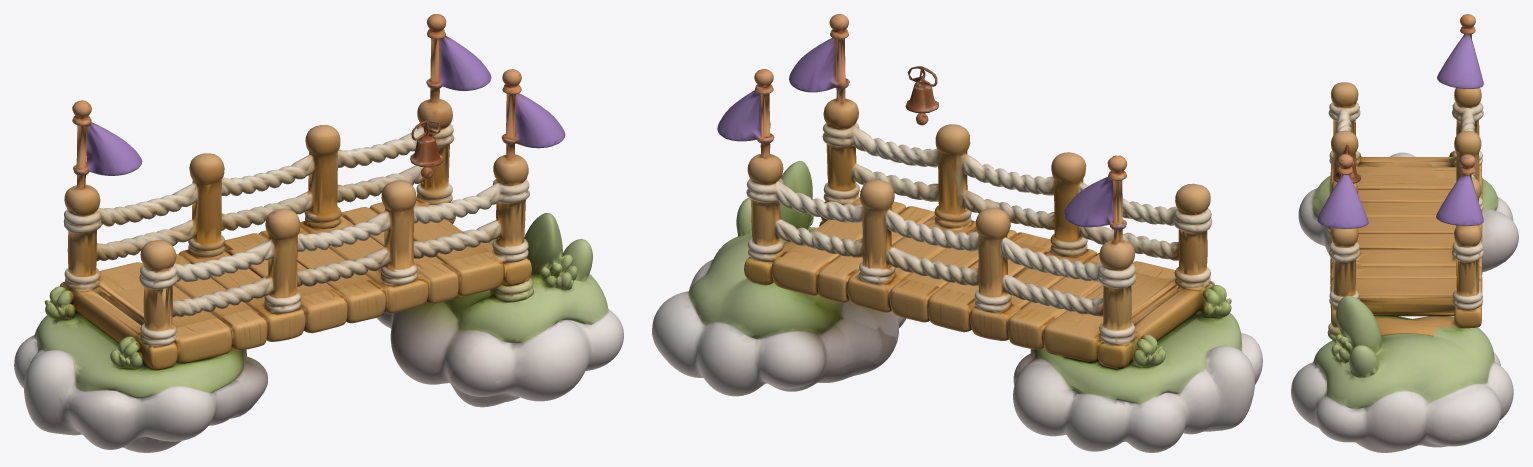
Rendered from cloud-bridge-1.glb.
The picture shows the model from 3 angles, left to right: view 1: azimuth 30°, elevation 25°; view 2: azimuth 150°, elevation 25°; view 3: azimuth 270°, elevation 25°; orthographic projection. The views are drawn at different scales.
Parts seen in each view (by area): view 1: node_0; view 2: node_0; view 3: node_0.
Boxes of the visible parts, left/top/right/bottom form: node_0: left=14, top=14, right=623, bottom=452; node_0: left=652, top=14, right=1262, bottom=452; node_0: left=1291, top=14, right=1518, bottom=452.
Bounding box in the file's own units: 1.1 × 0.659 × 0.4756.
Materials: 1 (1 with a texture image).
